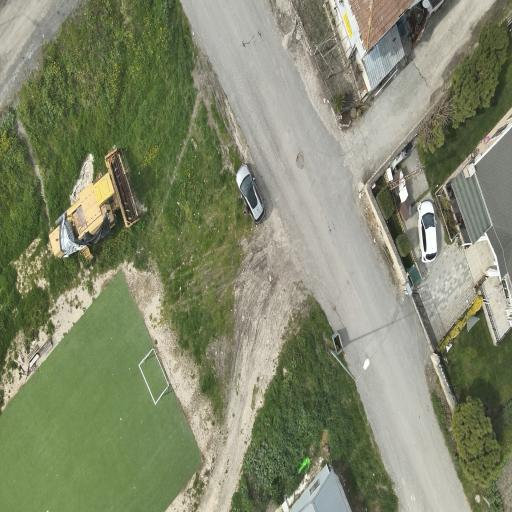car: (236, 164, 264, 223), (417, 200, 436, 262)
harvester: (49, 148, 139, 258)
person: (243, 206, 248, 215)
